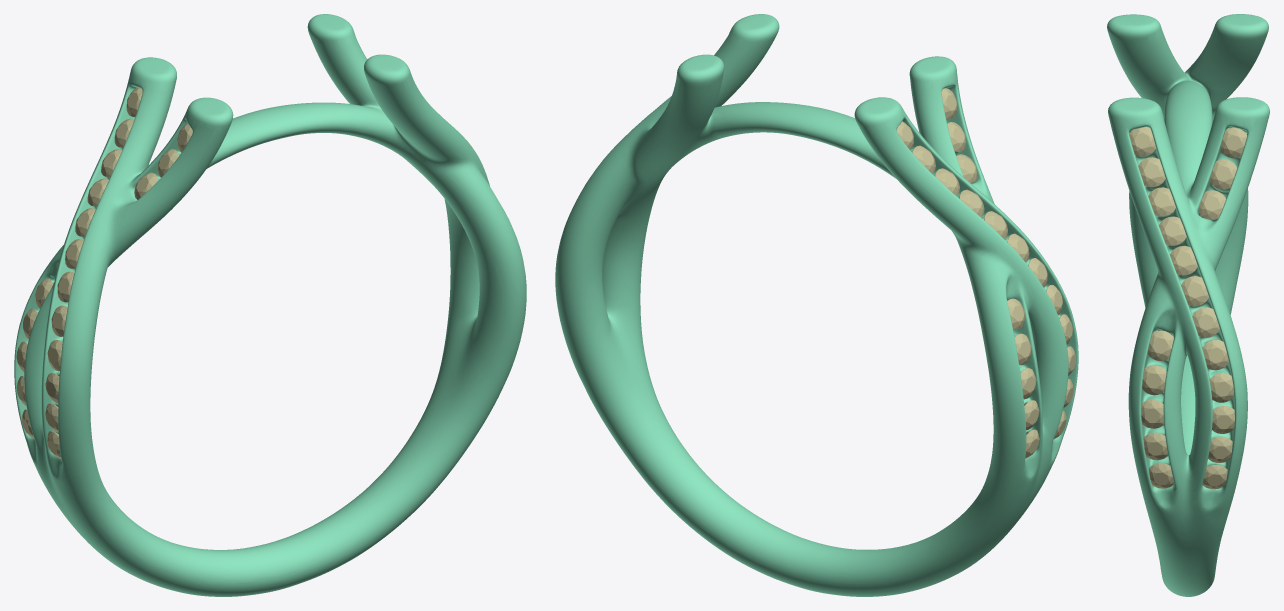
3 views of the same model, side by side, from view 1: azimuth 30°, elevation 25°; view 2: azimuth 150°, elevation 25°; view 3: azimuth 270°, elevation 25° (orthographic). The views are drawn at different scales.
Visible parts, largest first — view 1: Metal02; view 2: Metal02; view 3: Metal02, Diamond_Gem.003, Diamond_Gem.012, Diamond_Gem.011, Diamond_Gem.004, Diamond_Gem.013, Diamond_Gem.018, Diamond_Gem.019, Diamond_Gem.007, Diamond_Gem.010, Diamond_Gem.005, Diamond_Gem.006 (+9 smaller).
Boxes of the visible parts, x1,y1,x2,y2 form: Metal02: [14, 14, 526, 596]; Metal02: [555, 14, 1078, 596]; Metal02: [1107, 14, 1269, 596]; Diamond_Gem.003: [1220, 127, 1247, 158]; Diamond_Gem.012: [1192, 307, 1219, 337]; Diamond_Gem.011: [1181, 276, 1208, 306]; Diamond_Gem.004: [1209, 159, 1237, 189]; Diamond_Gem.013: [1202, 339, 1228, 370]; Diamond_Gem.018: [1147, 330, 1173, 360]; Diamond_Gem.019: [1142, 365, 1166, 395]; Diamond_Gem.007: [1138, 157, 1165, 187]; Diamond_Gem.010: [1170, 246, 1197, 275]; Diamond_Gem.005: [1198, 190, 1226, 219]; Diamond_Gem.006: [1129, 126, 1155, 156].
Size of the model in its own units: 21.15 by 22.12 by 6.4.
